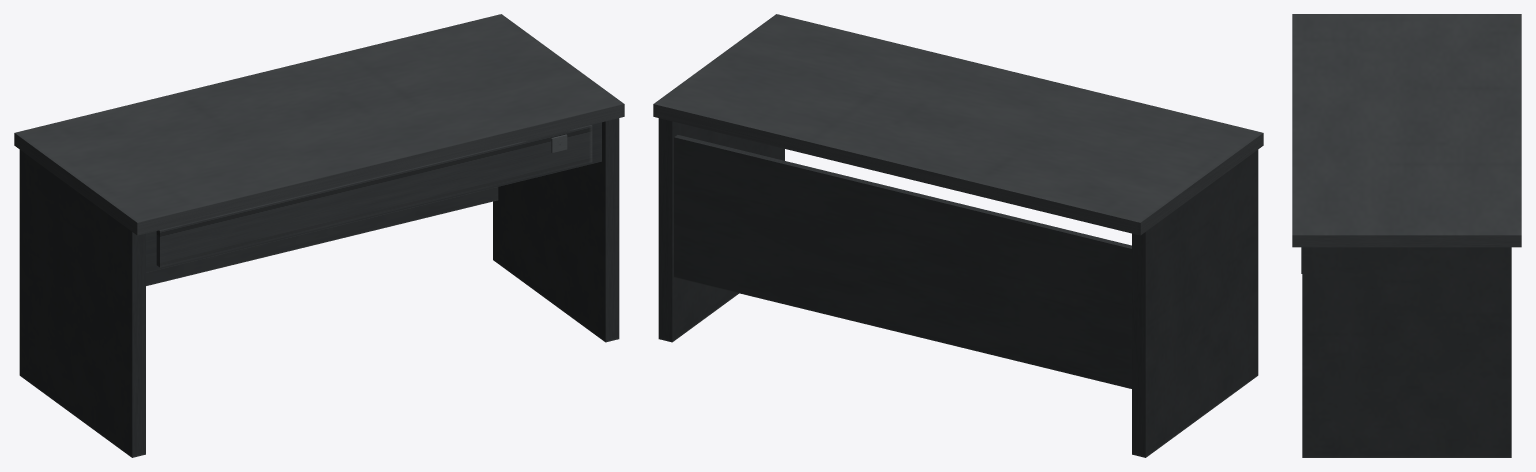
Rendered from desk.glb.
3 views of the same model, side by side, from view 1: azimuth 30°, elevation 25°; view 2: azimuth 150°, elevation 25°; view 3: azimuth 270°, elevation 25° (orthographic). The views are drawn at different scales.
Visible parts, largest first — view 1: core_desk; view 2: core_desk; view 3: core_desk.
Boxes of the visible parts, x1,y1,x2,y2 form: core_desk: (14,14,624,457); core_desk: (653,14,1263,457); core_desk: (1292,14,1521,457).
Bounding box in the file's own units: 1.6 × 0.75 × 0.7.
1 material, 1 textured.
